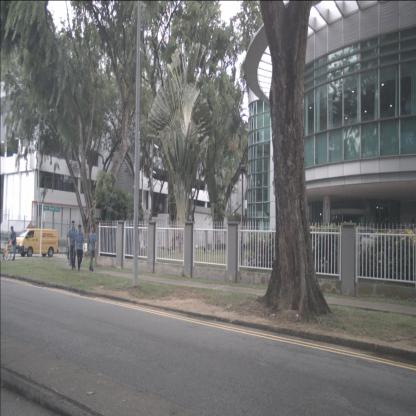human-pedestrian-adult: (68, 219, 78, 271), (74, 223, 84, 272), (88, 226, 97, 272), (6, 226, 16, 261), (66, 226, 72, 263)
vehicle-bicycle: (1, 236, 12, 262)
vehicle-car: (347, 228, 386, 263), (15, 228, 59, 256)
